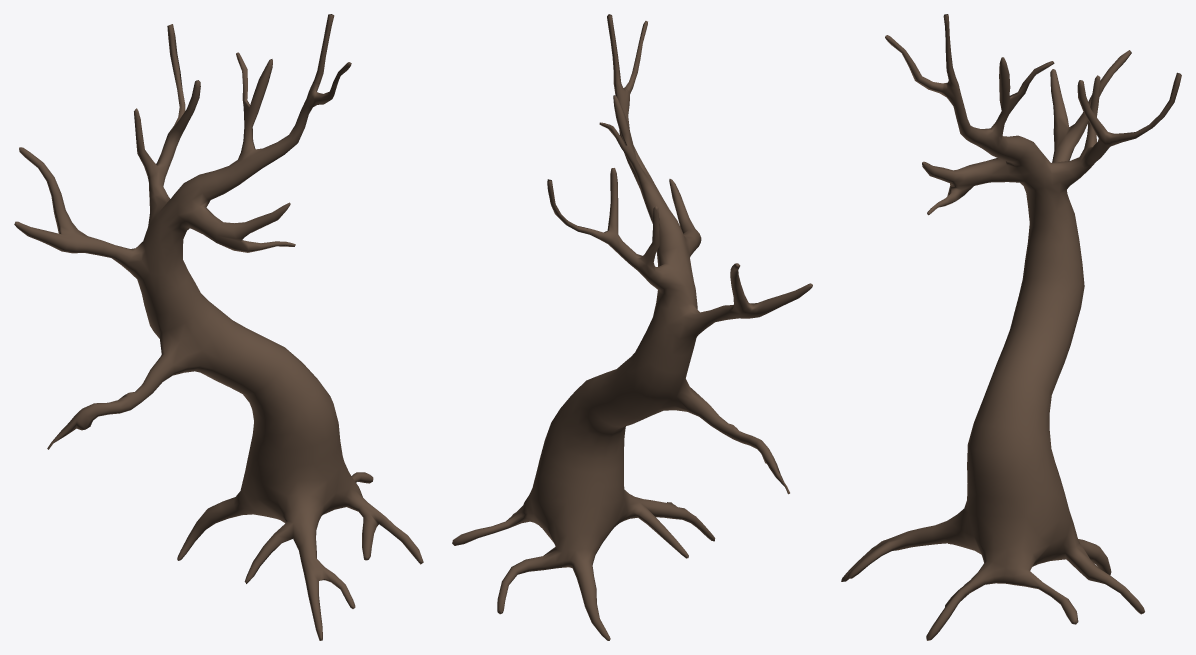
Rendered from treee.fbx.
The picture shows the model from 3 angles, left to right: view 1: azimuth 30°, elevation 25°; view 2: azimuth 150°, elevation 25°; view 3: azimuth 270°, elevation 25°; orthographic projection. The views are drawn at different scales.
Parts seen in each view (by area): view 1: polySurface80; view 2: polySurface80; view 3: polySurface80.
Part boxes in pixels (bbox=[...]): polySurface80: bbox=[14, 14, 423, 640]; polySurface80: bbox=[452, 14, 812, 640]; polySurface80: bbox=[841, 14, 1181, 640].
Size of the model in its own units: 9.61 by 14.53 by 7.4.
